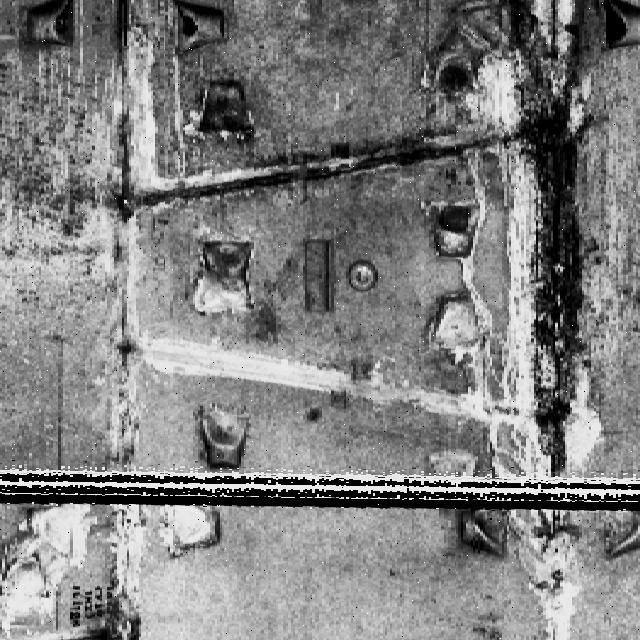leakage: (508, 1, 611, 636)
